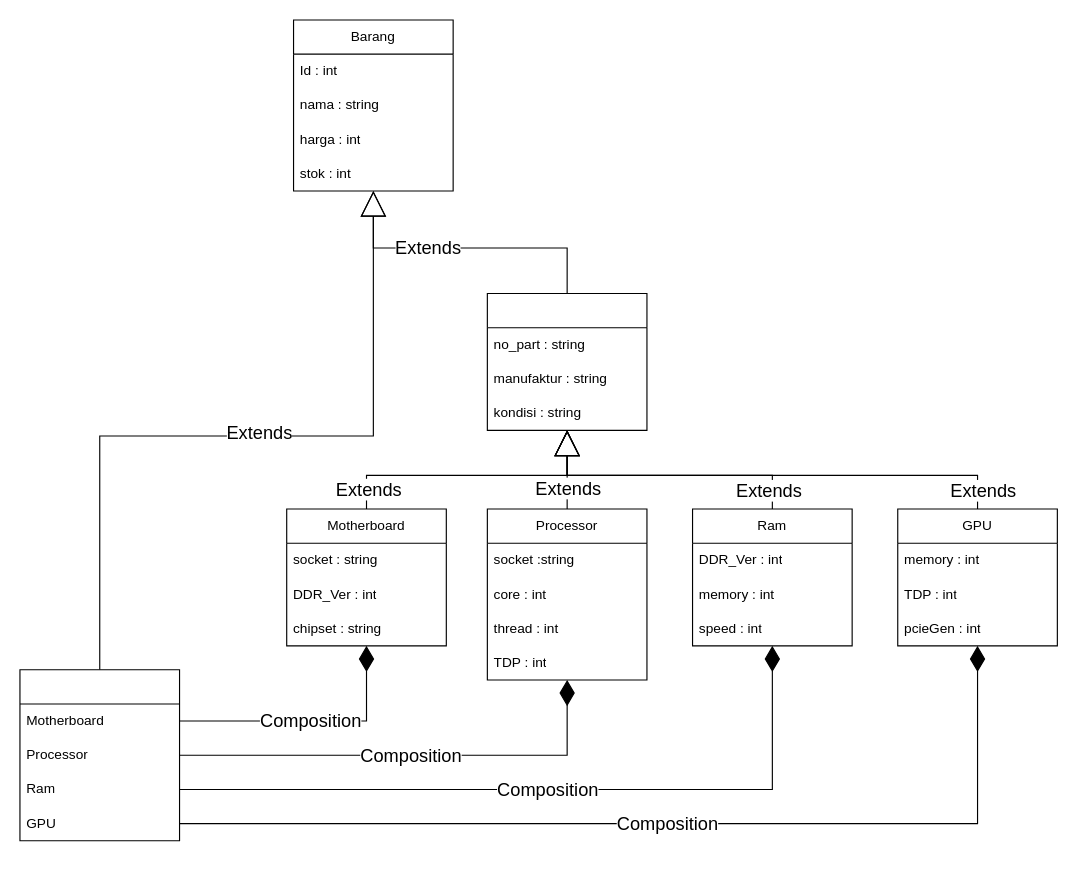
Some shapes in this 1077 by 869 pixel diagram are drawn without their labels. The box of each missing label's shape, as (x1, y1, x2, y2) in pixels:
Komputer: (19, 669, 180, 841)
Part Komputer: (486, 292, 647, 430)
